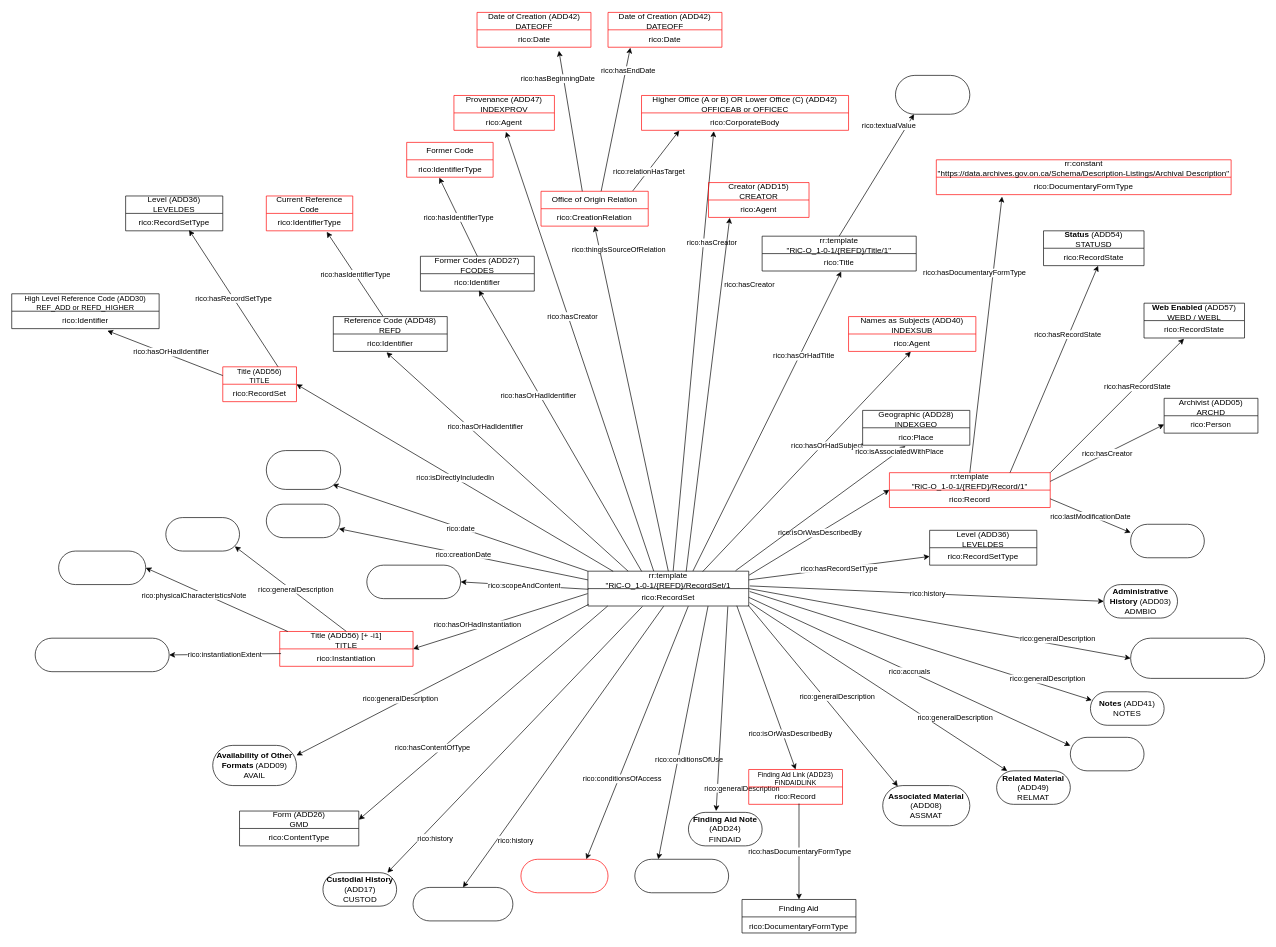
Image size: 1276x947. Some labels were removed from this diagram. The centre of each missing label's shape, as x and y in pixels:
Access Restrictions (ADD01) RESTRTX / REST: (564,876)
Accruals (ADD02) ACCRUAL: (1107,754)
Archivist's Comments (ADD06) or Hidden Notes (ADD29) CMTD or HIDDENNOTES: (1197,658)
Date Modified (ADD21) MODDATE: (1167,541)
Dates of Accumulation (ADD18) DATEACM: (303,469)
Dates of Creation (ADD19) DATECR: (303,521)
How to Order (ADD31) HOWTO: (202,534)
Immediate Source of Acquisition (ADD33) ISA: (462,904)
Physical Condition (ADD45) PHYSCO: (102,567)
Physical Description (ADD46) PHDESC: (102,655)
rml:reference "TITLE": (932,94)
Scope and Content (ADD51) SCOPE: (413,581)
Terms Governing Use (ADD55) TGU: (681,876)
